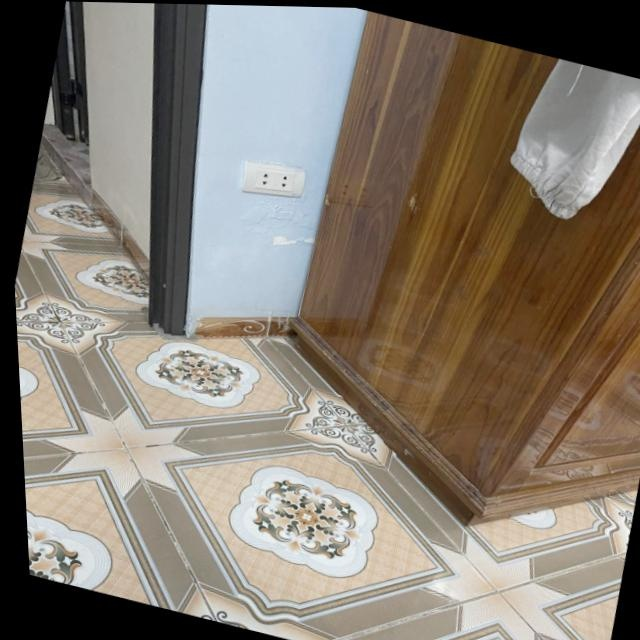outlet: (237, 154, 308, 206)
